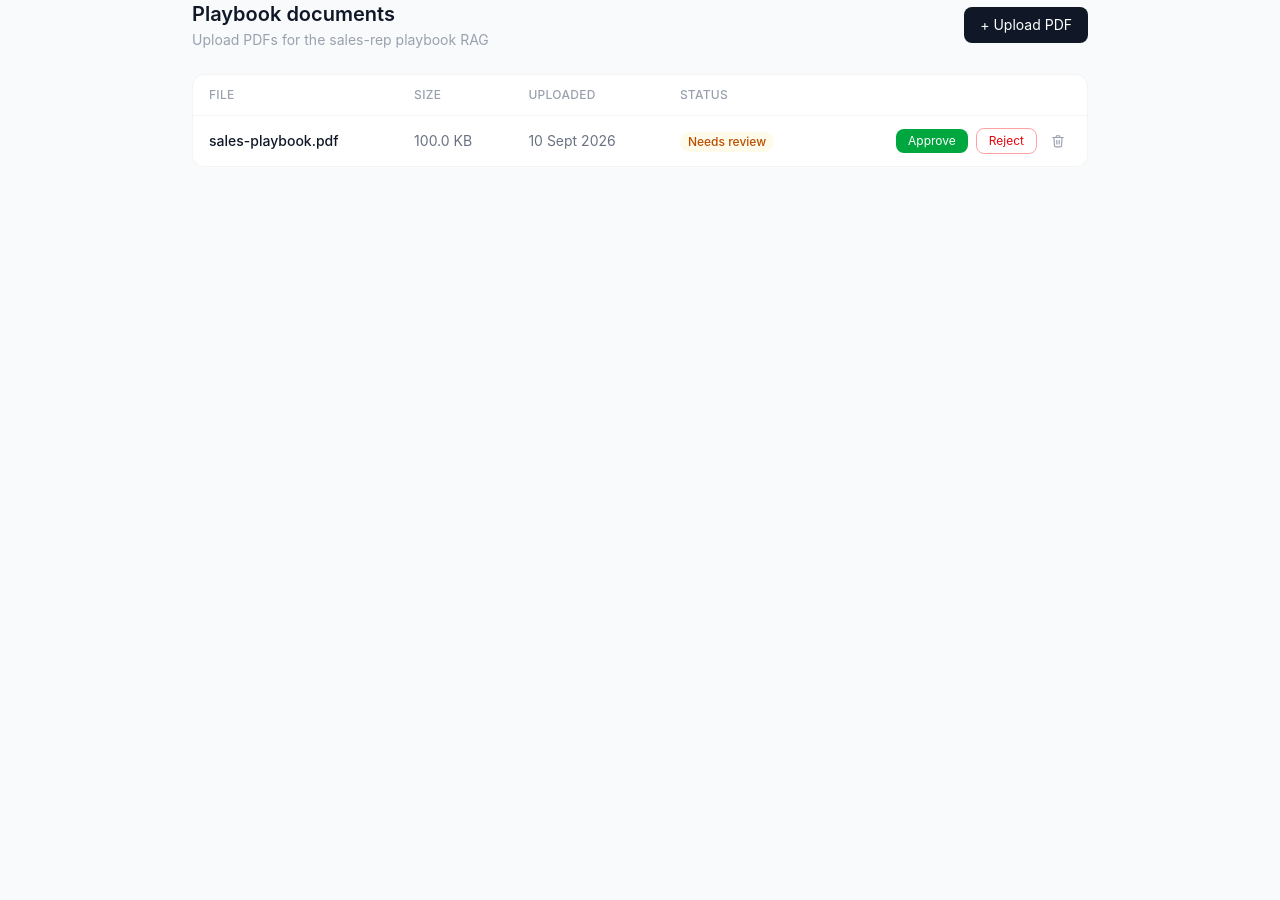
Test case: DocumentsPage › opens reject modal on Reject click
Click the button "Reject" at (1006, 141), box [976,128,1037,154]
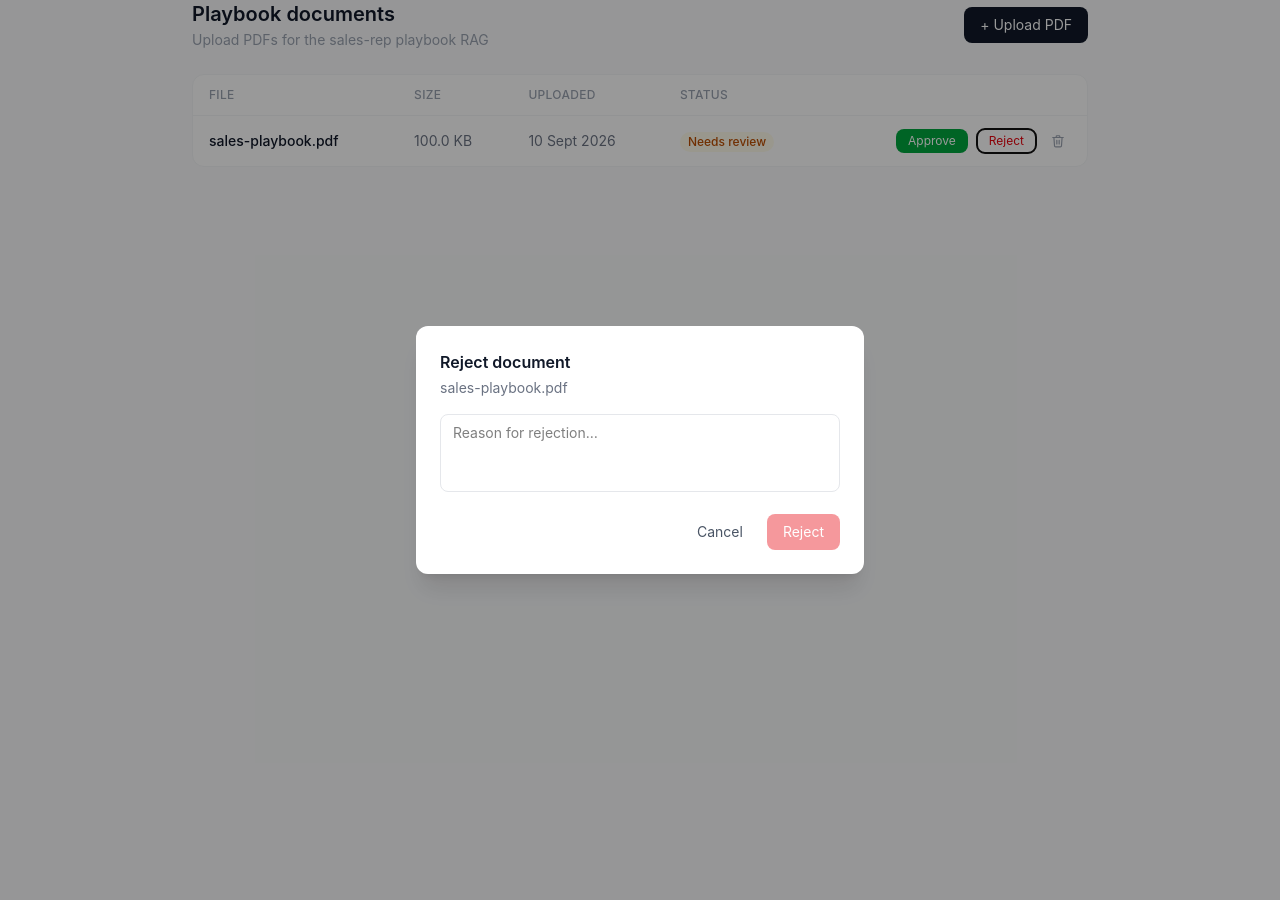
expect the heading "Reject document" is shown: met, box [440,352,570,372]
expect the text box with placeholder "Reason for rejection…" is shown: met, box [440,414,840,492]
